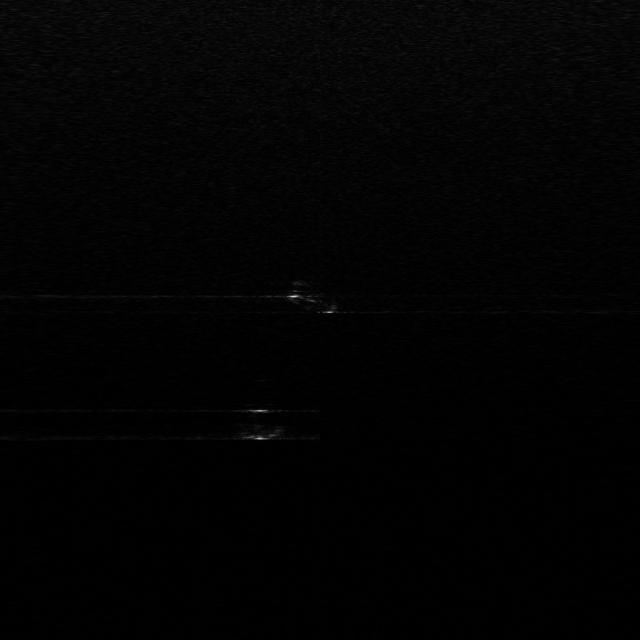ball: (236, 403, 288, 438)
tyre: (288, 278, 341, 316)
